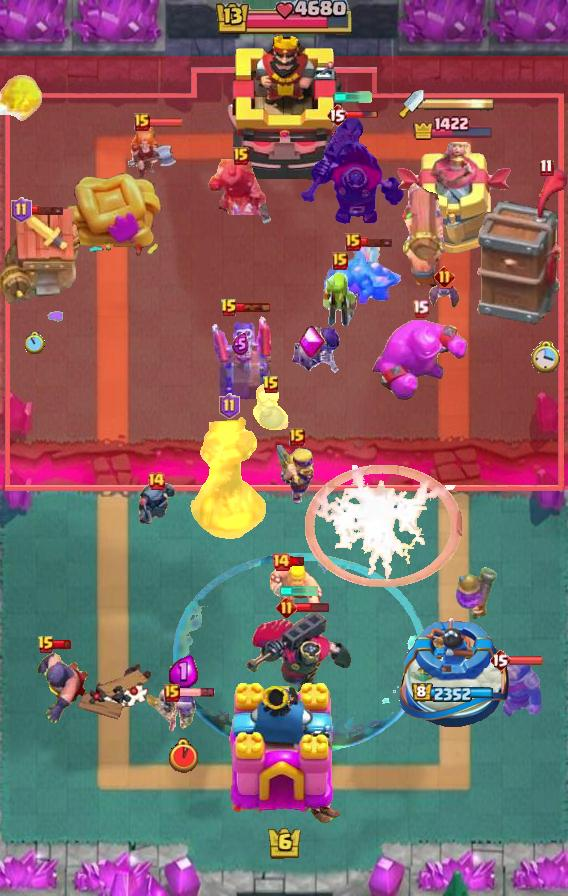archer: (269, 564, 325, 616)
arrows: (277, 445, 317, 505)
bar: (394, 142, 512, 256)
barbarian-barrel: (427, 283, 461, 311)
barbarian-evolution: (304, 465, 463, 587)
battle-healer: (399, 175, 447, 289)
battle-ram: (134, 480, 178, 528)
bomb-tower: (455, 559, 497, 623)
clock: (213, 0, 355, 38)
clone: (370, 318, 470, 402)
dart-goblin: (477, 168, 567, 326)
electro-dragon: (190, 414, 268, 542)
electro-spirit: (170, 655, 199, 689), (231, 333, 248, 355)
elixir: (531, 341, 561, 375), (170, 739, 199, 773), (25, 332, 45, 354)
emote: (29, 204, 65, 216), (358, 236, 394, 248), (236, 302, 272, 314), (295, 601, 330, 613), (177, 686, 214, 697), (148, 117, 184, 128), (508, 654, 544, 665), (345, 110, 379, 120), (52, 638, 72, 650), (289, 556, 307, 567)
firecracker: (485, 657, 543, 719)
goblin: (167, 691, 199, 733)
goblin-ball: (288, 325, 342, 375)
graveyard: (322, 242, 406, 306)
heal-spirit: (147, 688, 183, 724)
hog-rider: (127, 127, 179, 179)
ice-golem: (251, 383, 291, 431)
ice-spirit: (331, 91, 373, 103), (279, 586, 319, 596)
inferno-dragon: (208, 159, 274, 231)
inferno-tower: (299, 113, 405, 225), (244, 608, 354, 704)
king-tower: (222, 680, 346, 826), (226, 33, 342, 181)
king-tower-bar: (424, 97, 496, 111)
monk: (34, 650, 90, 724)
pad_0: (172, 553, 426, 759)
queen-tower: (395, 614, 514, 730)
selected: (413, 115, 496, 141), (412, 684, 494, 705)
skeleton-king-bar: (209, 312, 271, 402)
skeleton-king-skill: (297, 326, 325, 360)
sparky: (0, 208, 86, 306)
text: (11, 197, 32, 223), (220, 393, 241, 419), (326, 103, 348, 127), (489, 648, 511, 672), (433, 266, 454, 287), (275, 597, 296, 618), (146, 471, 166, 491), (271, 552, 291, 572), (220, 298, 238, 318), (262, 375, 280, 395), (37, 635, 55, 655), (412, 299, 429, 317), (134, 113, 150, 131), (233, 147, 249, 165), (345, 233, 361, 251), (332, 252, 348, 270), (289, 428, 305, 446), (164, 684, 180, 702), (539, 159, 554, 177)
valkyrie: (0, 70, 44, 126)
zap: (321, 272, 359, 330)
